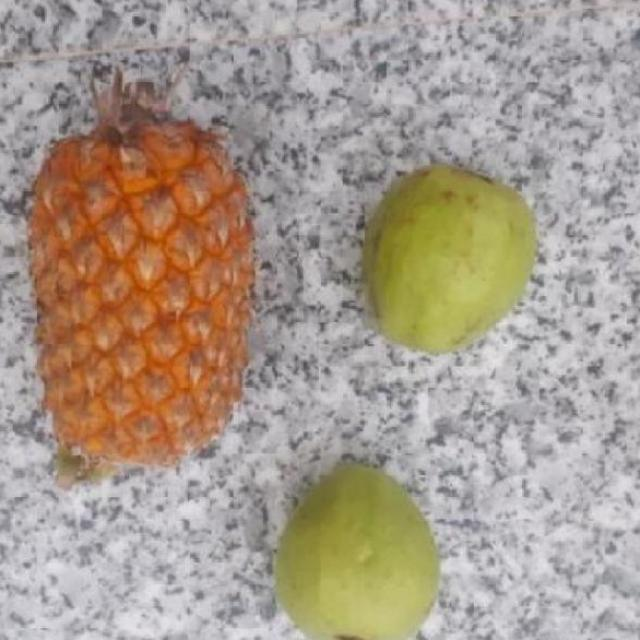guava: (347, 166, 534, 342), (269, 466, 443, 640)
pineapple: (26, 104, 252, 488)
